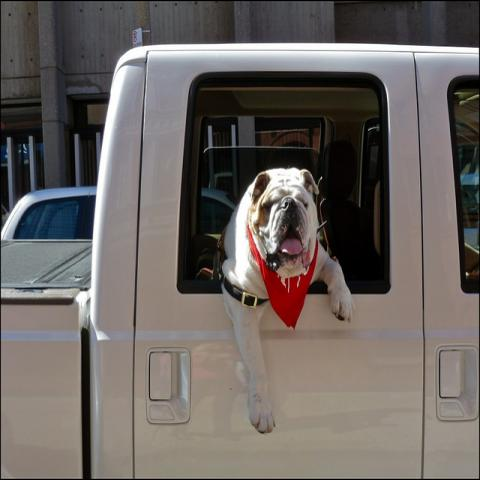car: (1, 176, 99, 291)
truck: (0, 40, 479, 472)
